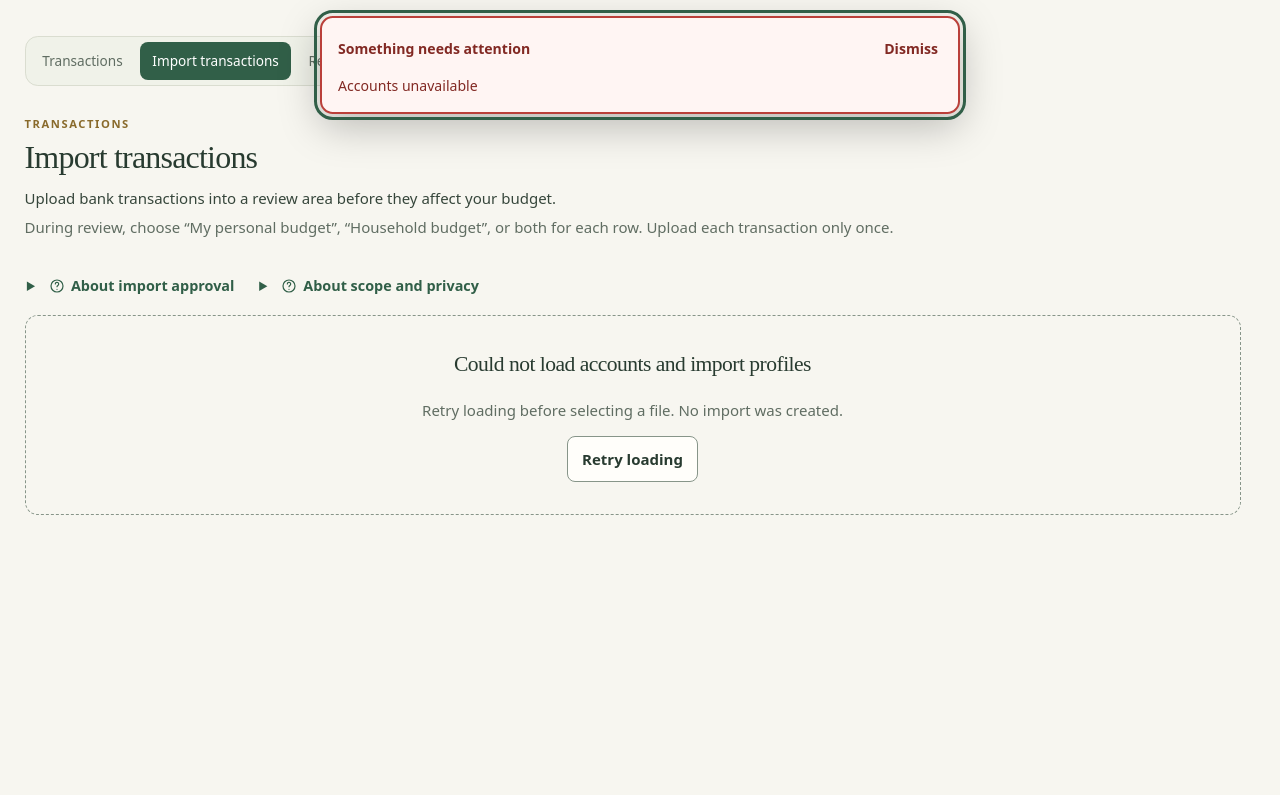
Scenario: Excel worksheet selection and staging › does not claim accounts are absent when initial loading fails and can retry safely
The width and height of the screenshot is (1280, 795).
Expected: the heading "Could not load accounts and import profiles" is shown, [454,352,811,376]
Click the button "Retry loading" at (633, 459), box [567,436,698,482]
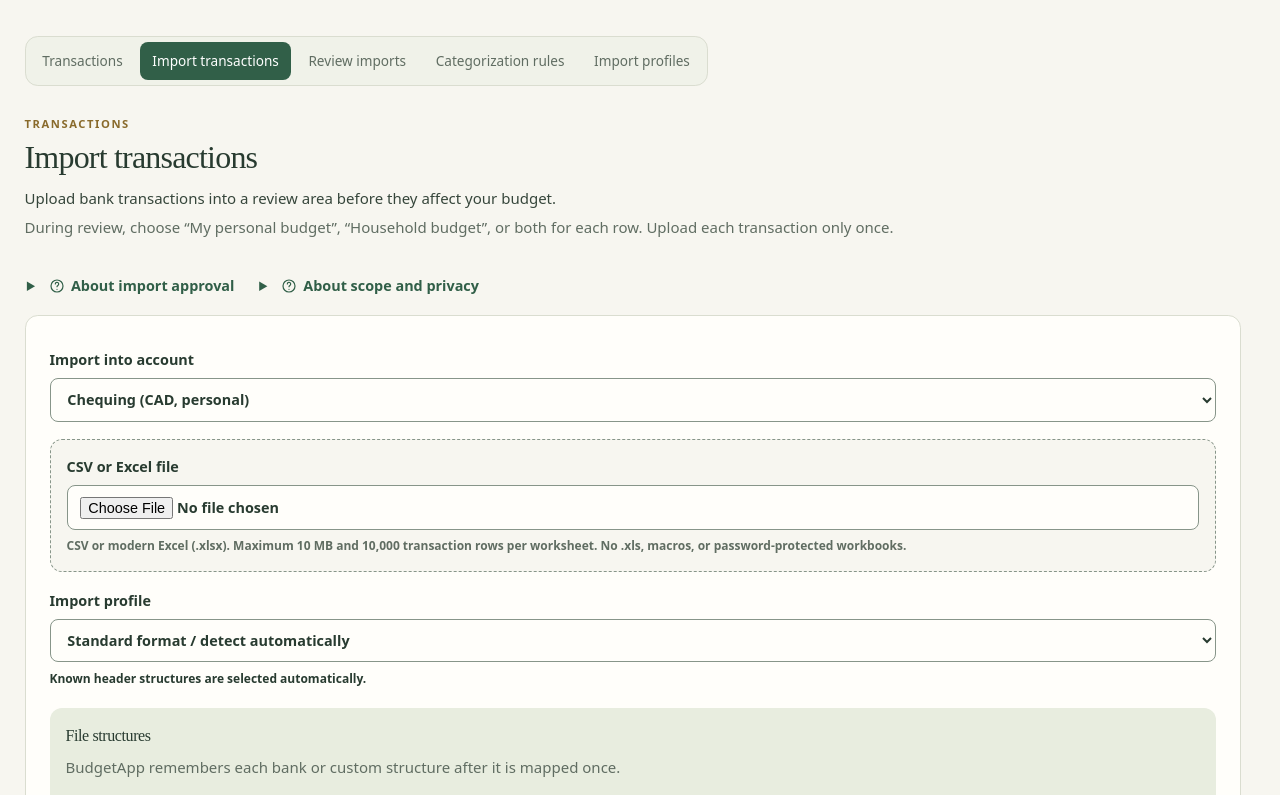
Result: the file field labelled "CSV or Excel file" is shown at [66,485,1198,530]
